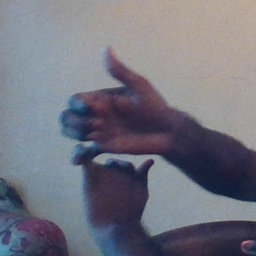S: (58, 33, 184, 197)
